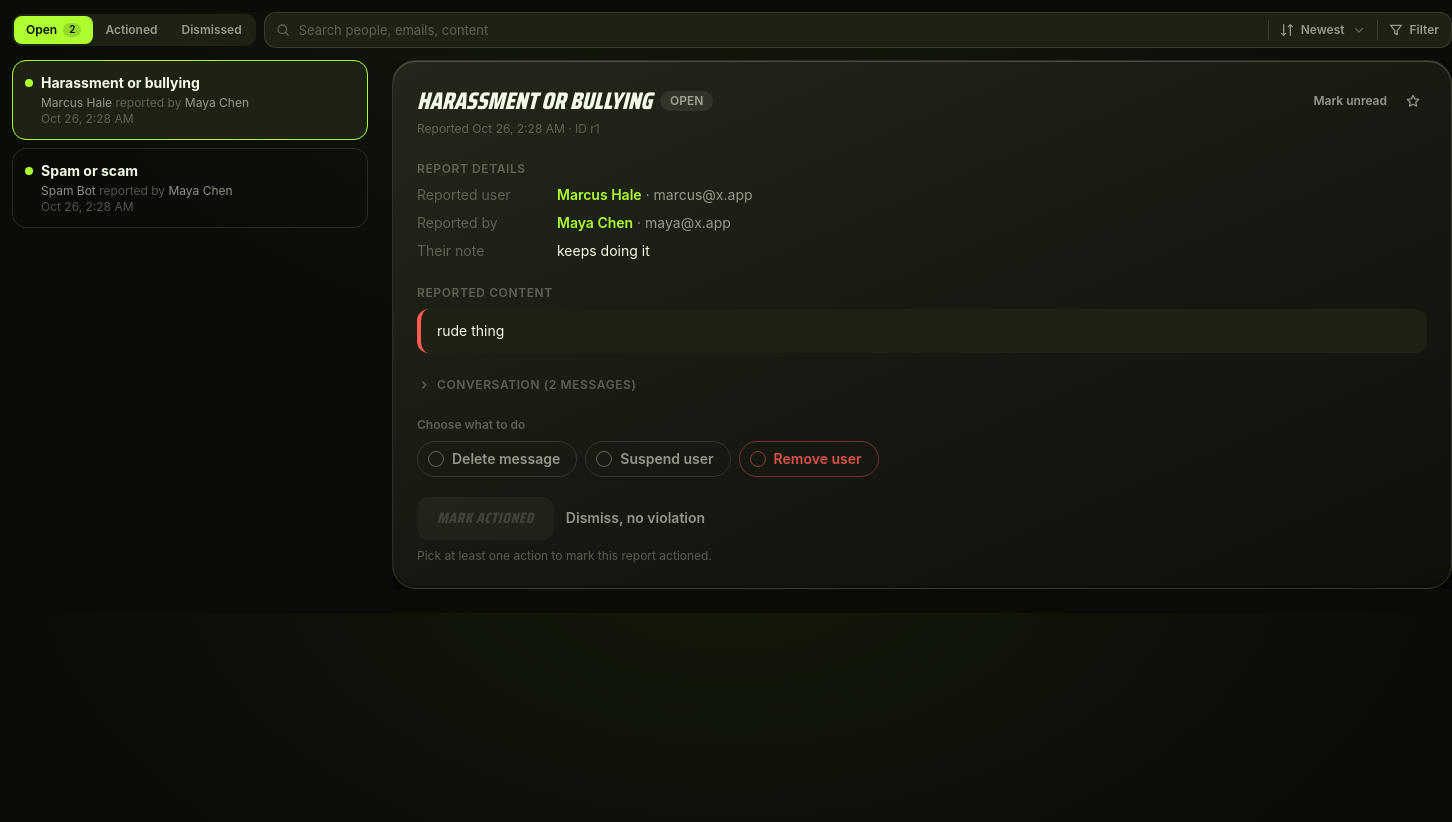
Test: filters narrow the list and say how many are shown
Click the button with aria-label "Filter reports by": (1413, 30) [1380,16,1447,44]
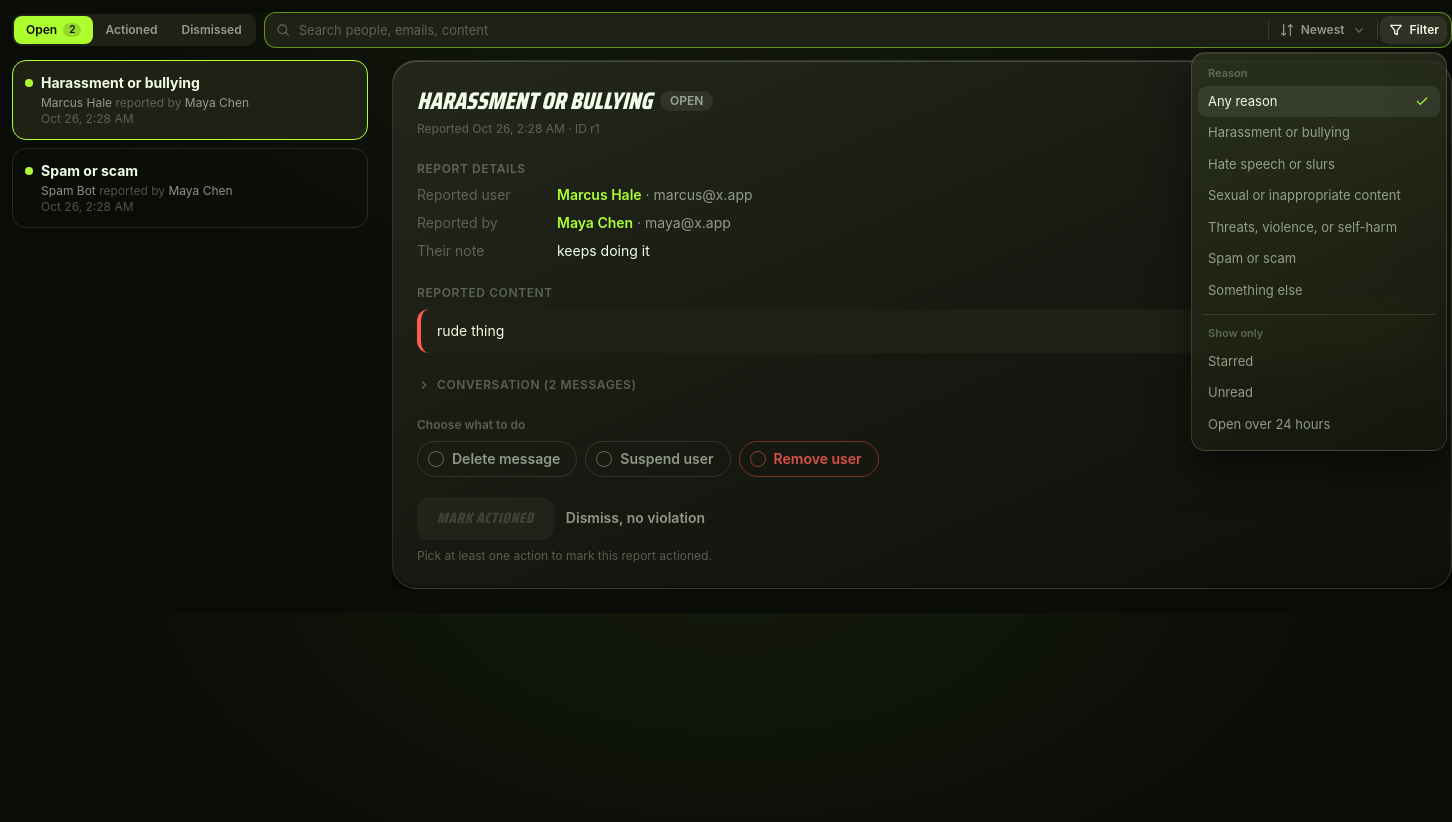
Click the menu item "Spam or scam": (1319, 259) [1198,243,1440,274]
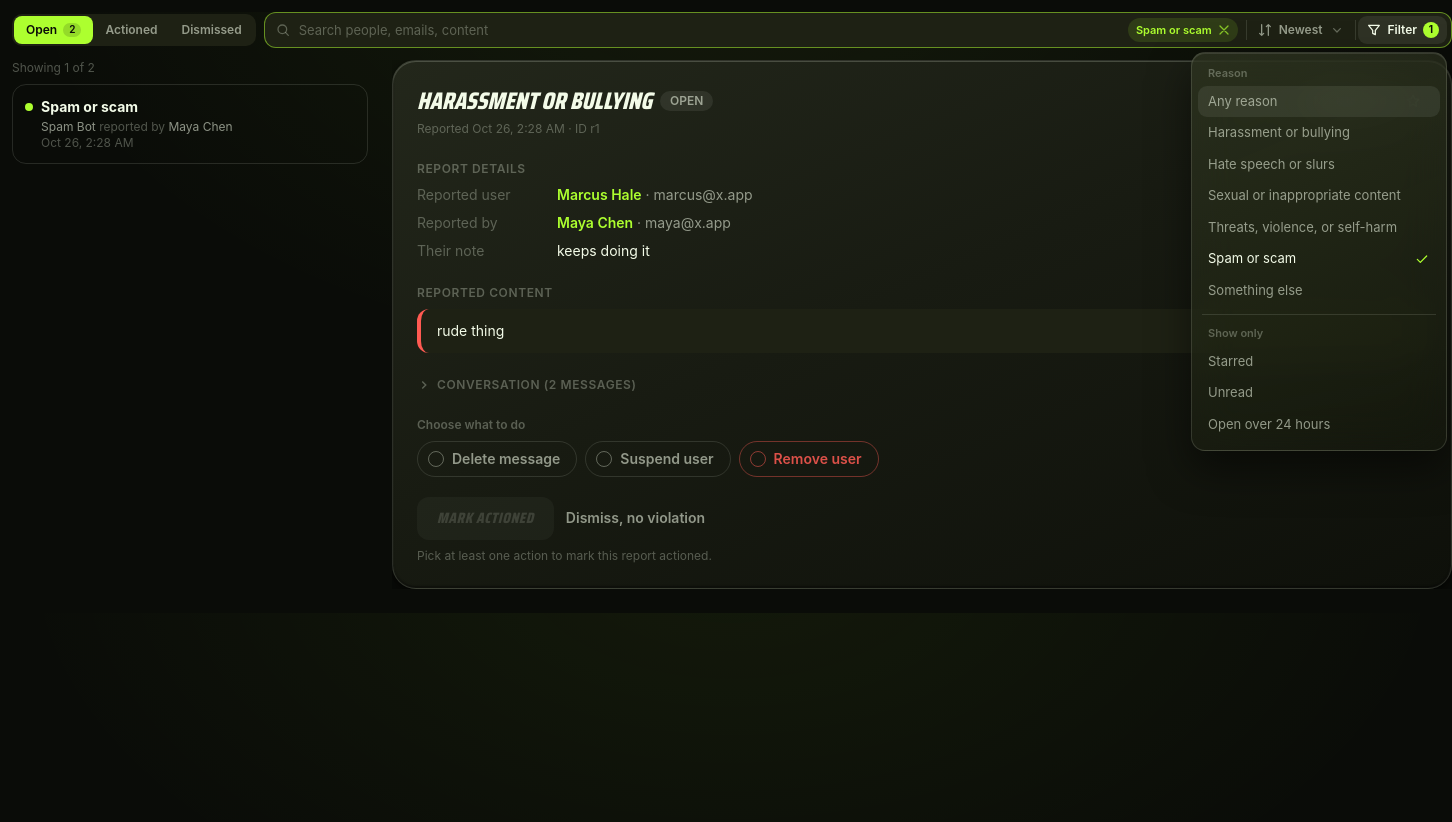
Expected: the list named "Reports" shows "Spam Bot", [13,85,367,163]
Expected: the text "Showing 1 of 2" is shown, [12,60,95,75]
